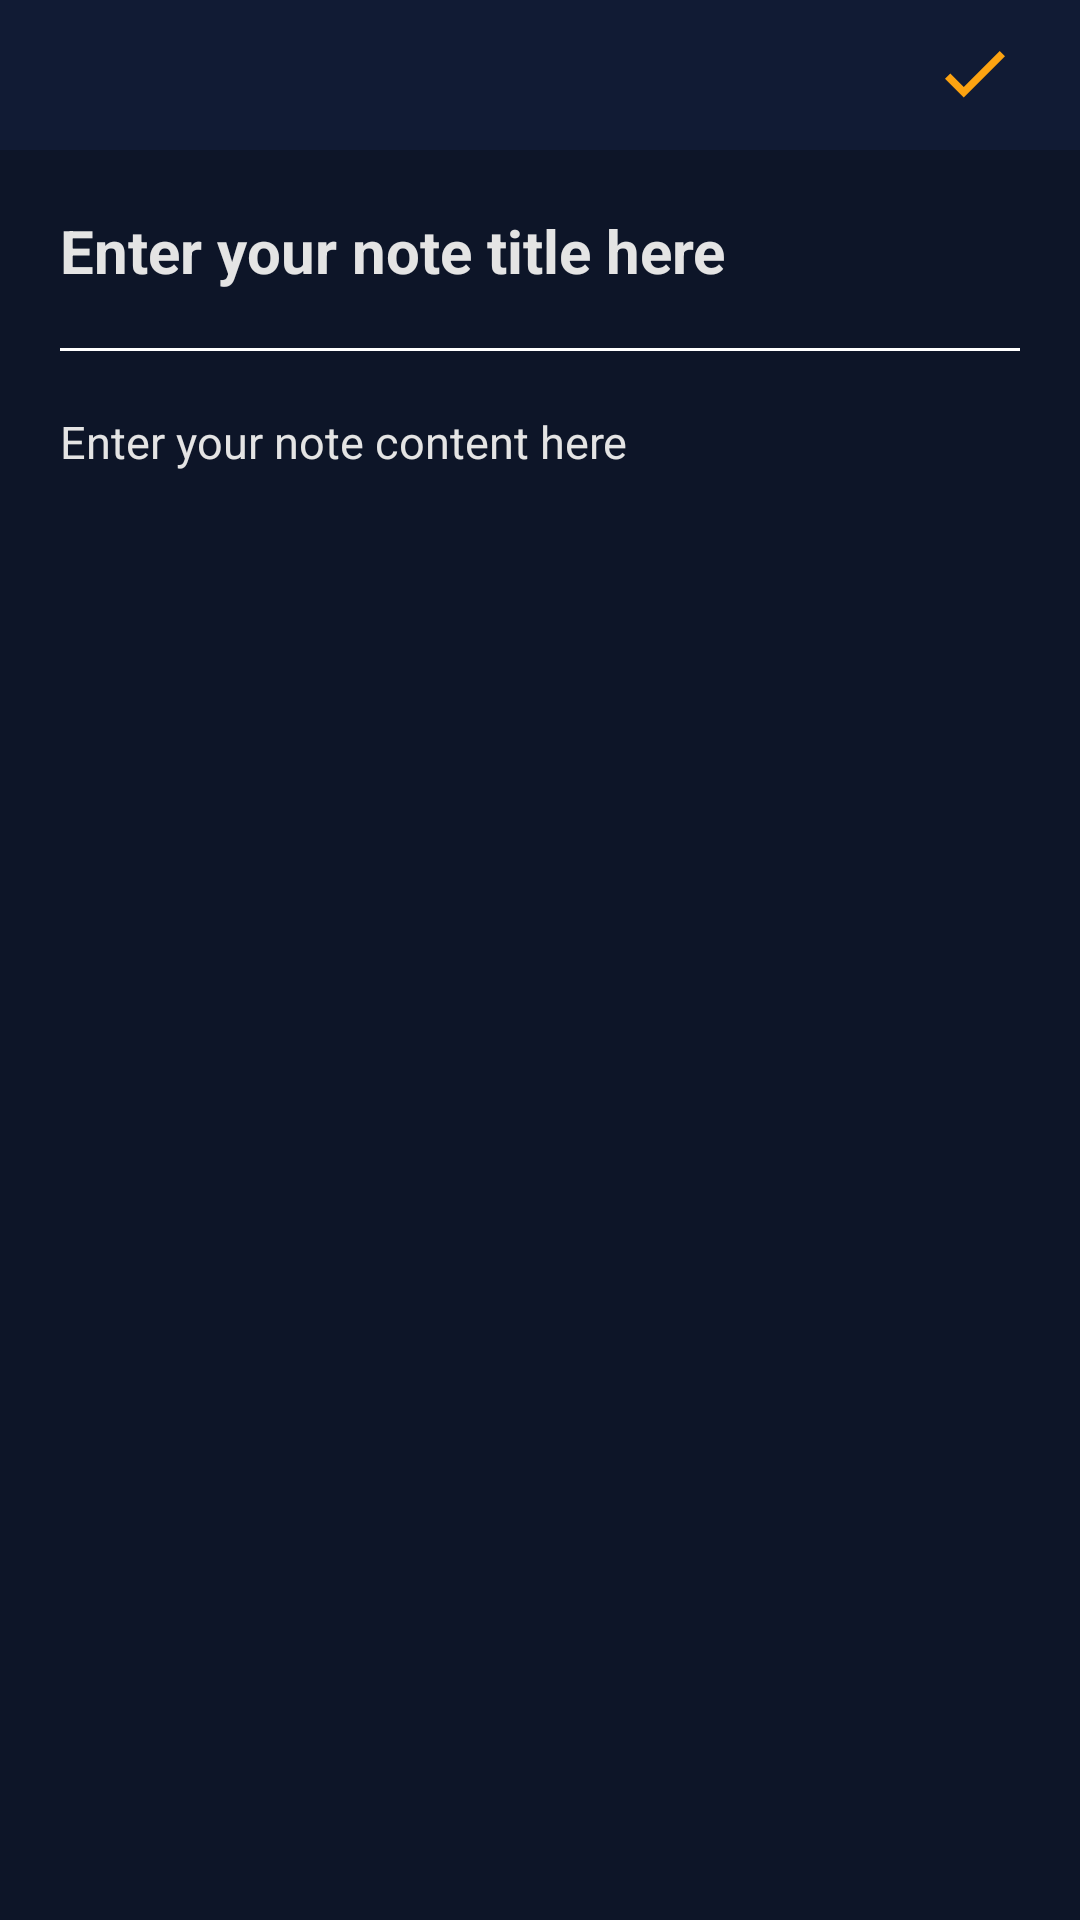

Where icons sit on this 1080px x 1920px app screen, as (x1, y1, x2, y2):
tick: (945, 51, 1005, 98)
